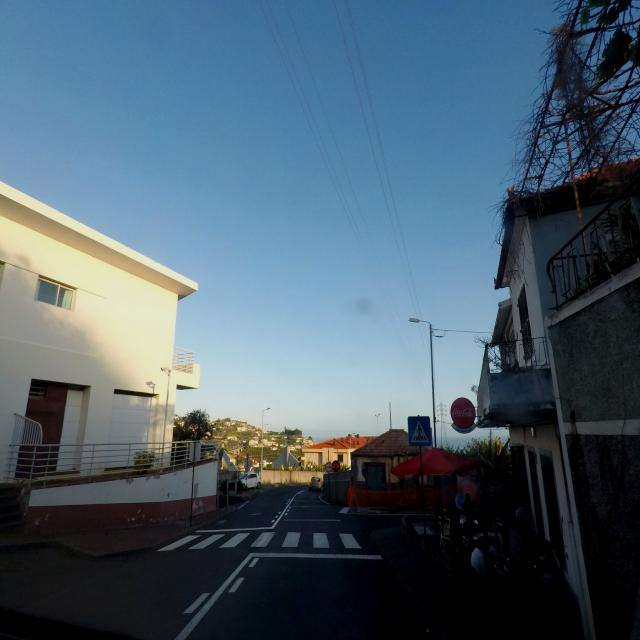car: (236, 472, 262, 489), (309, 476, 323, 492)
